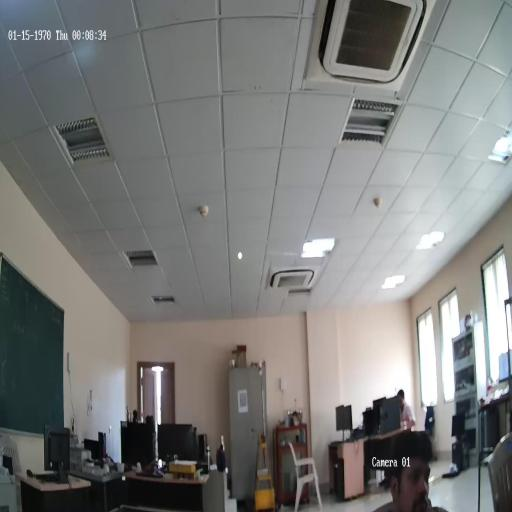laser: (238, 251, 243, 261)
